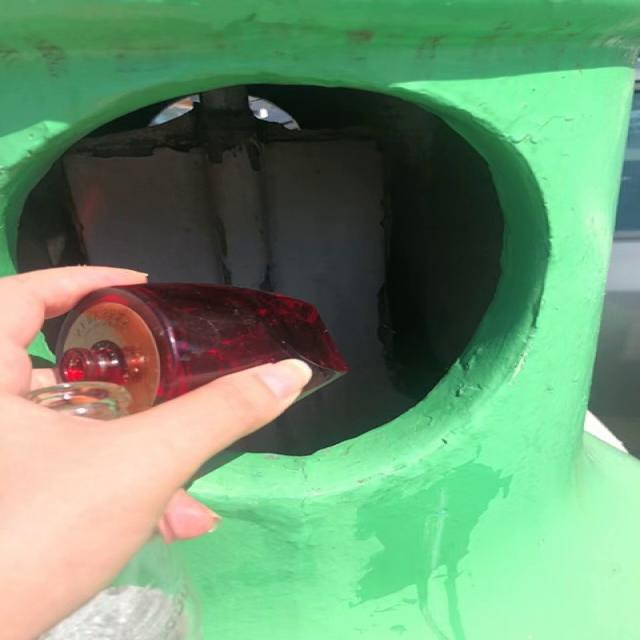glass: (56, 283, 348, 412)
